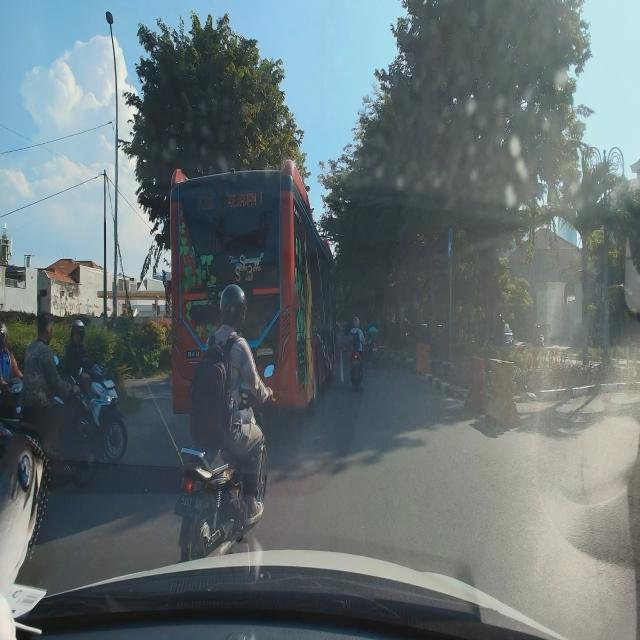bus: (170, 158, 337, 413)
